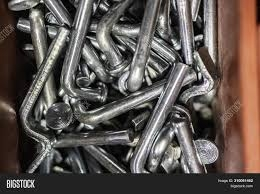metal: (14, 23, 72, 173), (61, 66, 206, 125), (126, 60, 195, 173), (64, 1, 110, 102), (122, 1, 171, 93), (25, 8, 63, 124), (168, 113, 212, 174), (178, 45, 223, 104), (46, 127, 139, 153), (172, 1, 205, 70)
